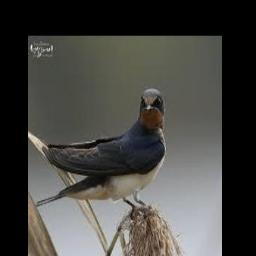Swallow: (33, 88, 167, 208)
